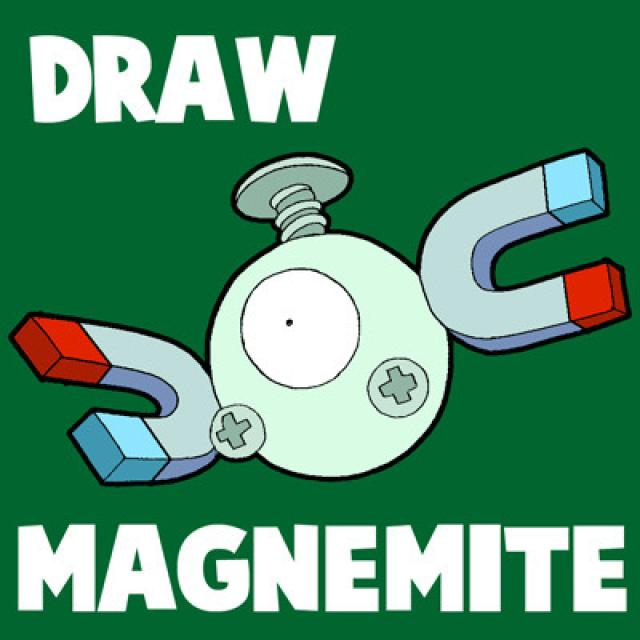Magnemite: (15, 142, 633, 518)
